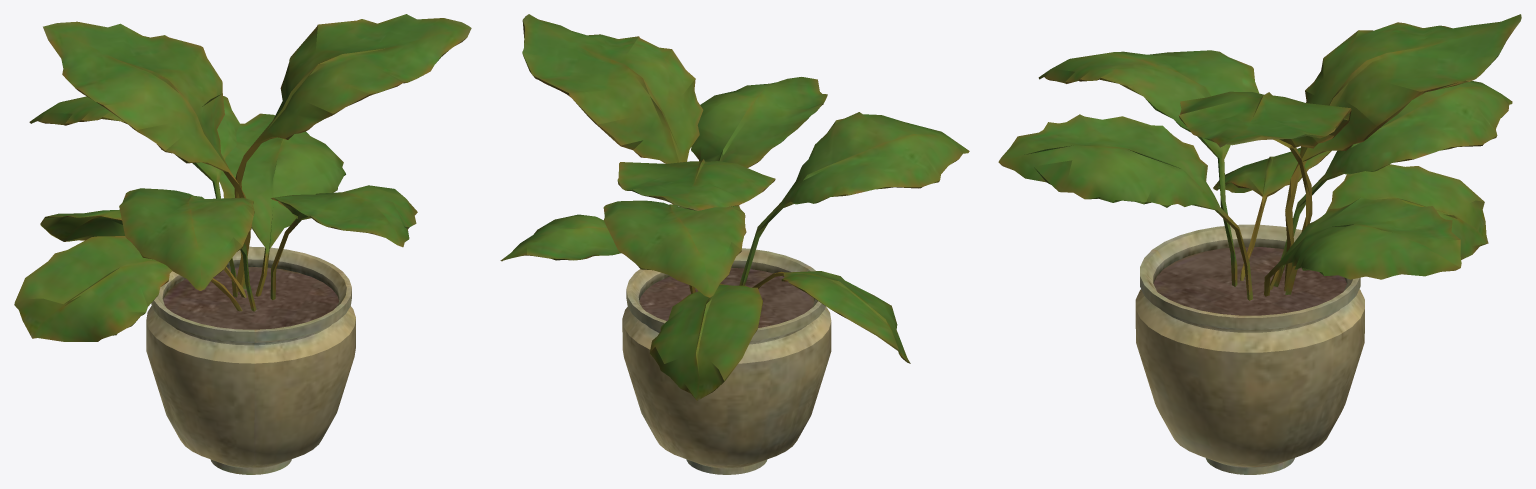
File: plant-small-c.glb
3 views of the same model, side by side, from view 1: azimuth 30°, elevation 25°; view 2: azimuth 150°, elevation 25°; view 3: azimuth 270°, elevation 25° (orthographic). The views are drawn at different scales.
Visible parts, largest first — view 1: plant-small-c; view 2: plant-small-c; view 3: plant-small-c.
Boxes of the visible parts, box(x1,y1,x2,y2) form: plant-small-c: box(14, 14, 471, 474); plant-small-c: box(500, 14, 969, 474); plant-small-c: box(998, 14, 1521, 474).
Size of the model in its own units: 0.4398 by 0.3922 by 0.4372.
1 material, 1 textured.
